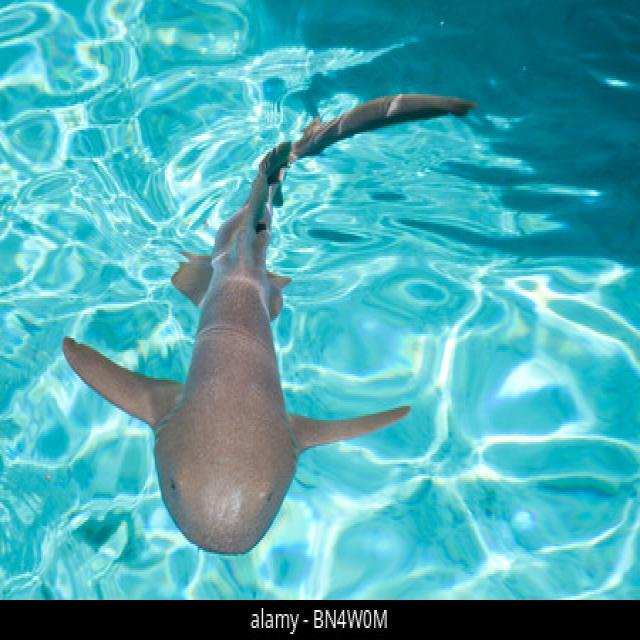Shark: (46, 64, 490, 564)
